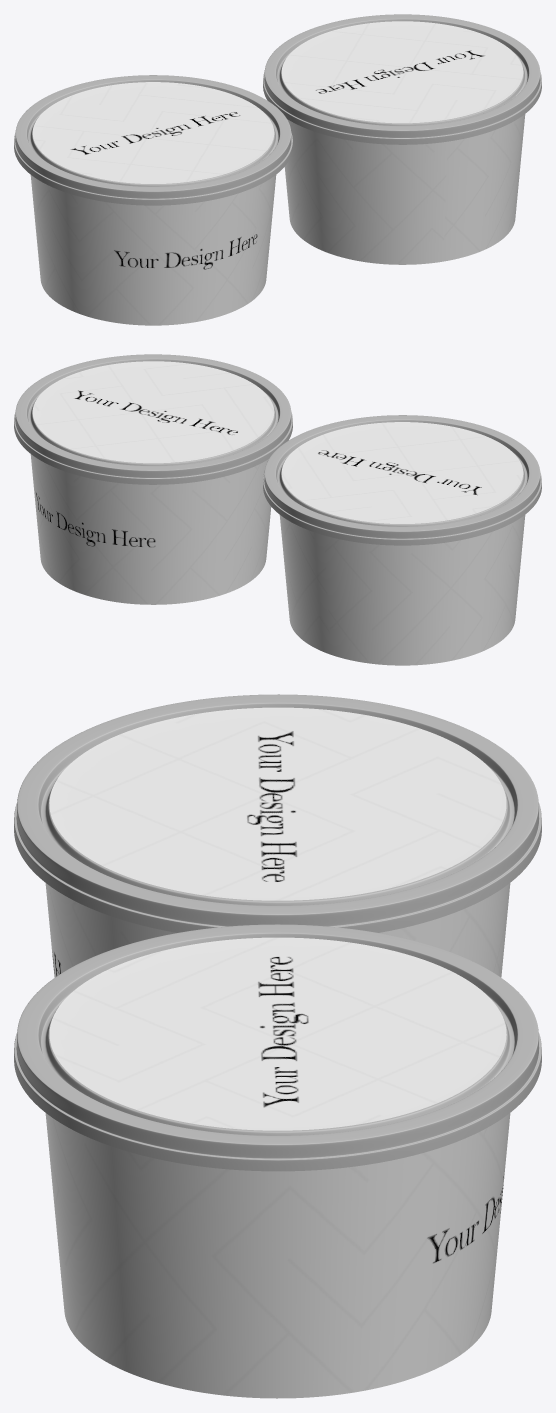
File: Round Angle-2.glb
The picture shows the model from 3 angles, top to bottom: view 1: azimuth 30°, elevation 25°; view 2: azimuth 150°, elevation 25°; view 3: azimuth 270°, elevation 25°; orthographic projection. The views are drawn at different scales.
Visible parts, largest first — view 1: Bottom.009, Bottom.004, Lid.009, Lid.006; view 2: Bottom.009, Bottom.004, Lid.009, Lid.006; view 3: Bottom.004, Bottom.009, Lid.006, Lid.009.
Boxes of the visible parts, x1=… form: Bottom.009: x1=30, y1=82, x2=276, y2=325; Bottom.004: x1=281, y1=21, x2=525, y2=264; Lid.009: x1=14, y1=75, x2=292, y2=205; Lid.006: x1=263, y1=14, x2=541, y2=144; Bottom.009: x1=279, y1=422, x2=525, y2=665; Bottom.004: x1=30, y1=361, x2=274, y2=604; Lid.009: x1=263, y1=415, x2=541, y2=545; Lid.006: x1=14, y1=354, x2=292, y2=484; Bottom.004: x1=45, y1=937, x2=510, y2=1398; Bottom.009: x1=45, y1=707, x2=510, y2=977; Lid.006: x1=14, y1=924, x2=541, y2=1171; Lid.009: x1=14, y1=694, x2=541, y2=932.
Size of the model in its own units: 0.3006 by 0.0848 by 0.148.
Materials: 3 (1 with a texture image).
